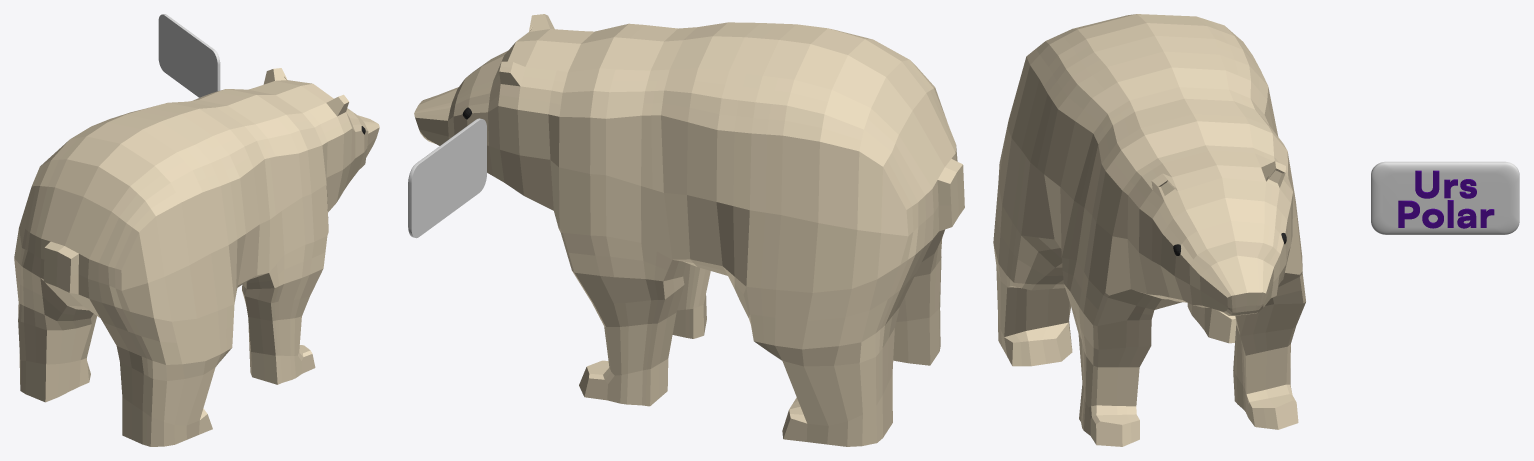
File: Urs scaled.fbx
3 views of the same model, side by side, from view 1: azimuth 30°, elevation 25°; view 2: azimuth 150°, elevation 25°; view 3: azimuth 270°, elevation 25° (orthographic). The views are drawn at different scales.
Visible parts, largest first — view 1: Plane.031, Cube.007; view 2: Plane.031, Cube.007; view 3: Plane.031, Cube.007, Text.007.
Part boxes in pixels (box(x1,y1,x2,y2)): Plane.031: box(14, 68, 379, 446); Cube.007: box(158, 14, 220, 97); Plane.031: box(414, 14, 964, 446); Cube.007: box(408, 118, 486, 238); Plane.031: box(993, 14, 1305, 446); Cube.007: box(1371, 161, 1519, 234); Text.007: box(1398, 170, 1494, 228).
Bounding box in the file's own units: 0.2375 × 0.1611 × 0.2296.
